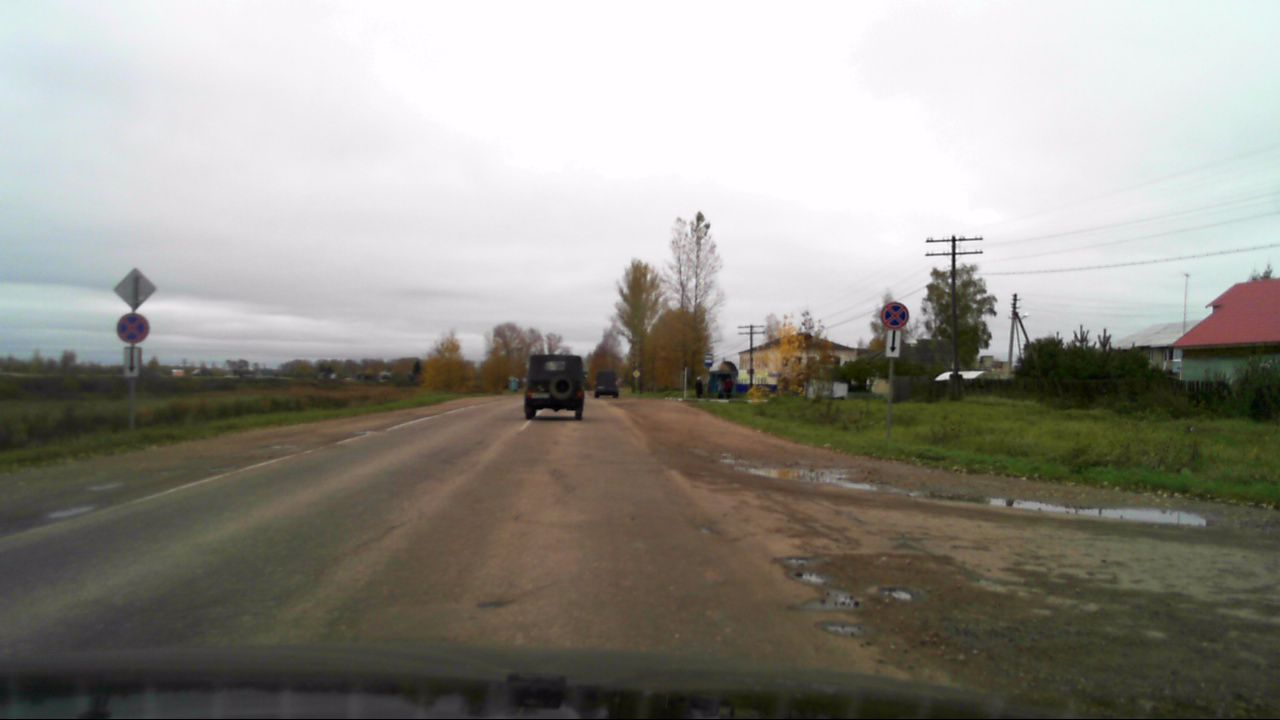No Parking: (116, 312, 149, 344)
